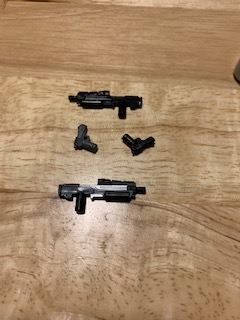pistol: (119, 133, 157, 158), (71, 124, 99, 157)
rifle: (54, 176, 150, 212), (65, 89, 144, 119)
